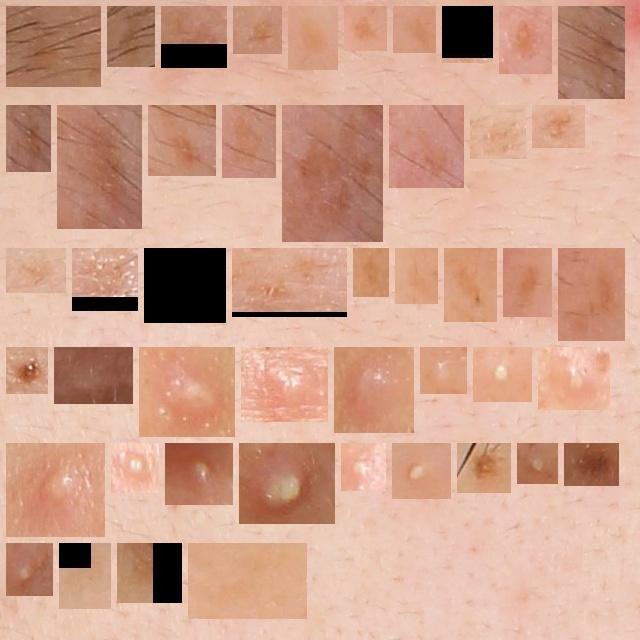hypertrophic_scar: (62, 355, 125, 396)
melasma: (290, 113, 375, 234), (65, 113, 134, 221), (196, 551, 299, 611), (240, 256, 339, 309), (14, 14, 93, 79), (397, 113, 456, 180), (566, 14, 617, 91), (566, 256, 617, 333), (152, 256, 218, 315), (156, 113, 208, 168), (80, 256, 130, 303), (169, 14, 219, 60), (230, 113, 268, 170), (125, 551, 174, 595), (452, 256, 489, 314), (507, 14, 544, 66), (67, 551, 103, 601), (511, 256, 544, 309), (296, 14, 330, 62), (478, 113, 518, 151), (14, 113, 43, 164), (115, 14, 147, 59), (450, 14, 485, 55), (14, 256, 58, 285), (403, 256, 430, 296), (241, 14, 274, 46), (540, 113, 577, 140), (401, 14, 428, 45), (352, 14, 379, 43), (361, 256, 381, 289)
nevus: (465, 451, 503, 485), (572, 451, 611, 478), (14, 355, 40, 386)
pustule: (14, 451, 97, 529), (147, 355, 227, 429), (247, 451, 327, 516), (342, 355, 406, 425), (249, 355, 320, 414), (546, 355, 602, 402), (173, 451, 225, 497), (400, 451, 443, 491), (481, 355, 524, 394), (14, 551, 45, 588), (119, 451, 151, 485), (428, 355, 459, 386), (349, 451, 378, 483), (525, 451, 550, 476)
